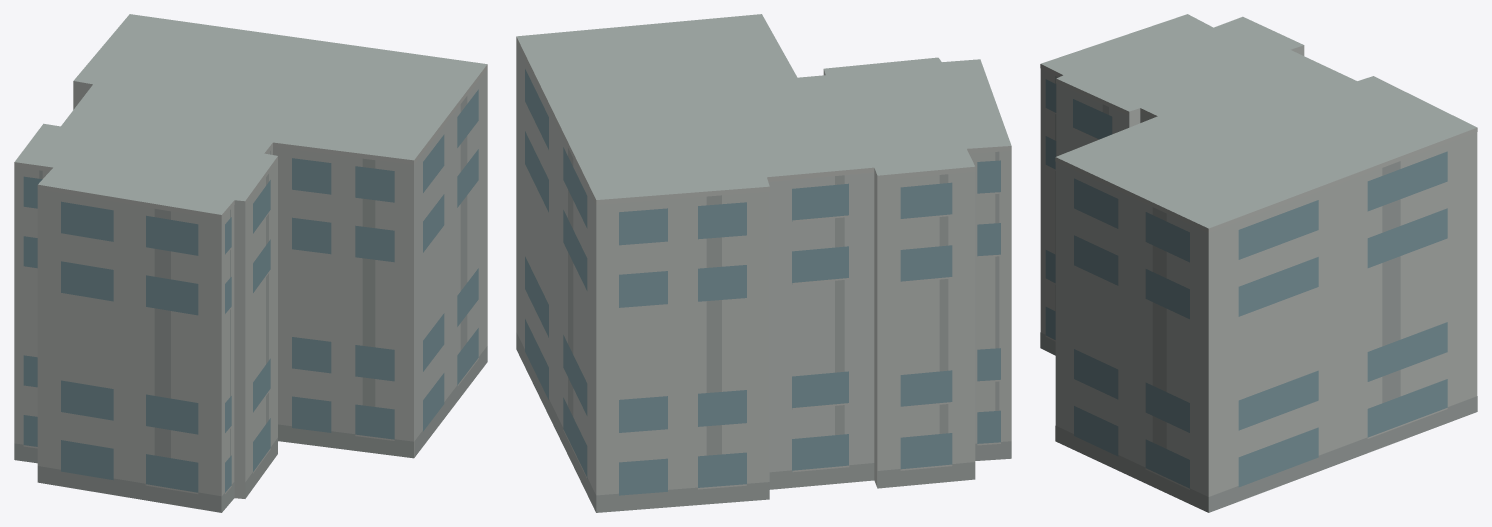
Rendered from survey-upis-32676971.glb.
3 views of the same model, side by side, from view 1: azimuth 30°, elevation 25°; view 2: azimuth 150°, elevation 25°; view 3: azimuth 270°, elevation 25° (orthographic). The views are drawn at different scales.
Parts seen in each view (by area): view 1: survey-upis-32676971.tmp; view 2: survey-upis-32676971.tmp; view 3: survey-upis-32676971.tmp.
Part boxes in pixels (x1,y1,x2,y2): survey-upis-32676971.tmp: [14, 14, 487, 512]; survey-upis-32676971.tmp: [516, 14, 1011, 512]; survey-upis-32676971.tmp: [1040, 14, 1477, 512].
Bounding box in the file's own units: 24.61 × 15.2 × 21.18.
